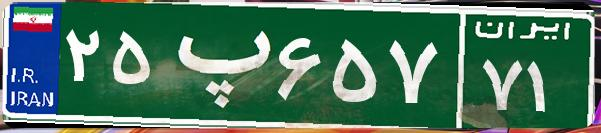1: (525, 38, 570, 115)
2: (57, 26, 110, 107)
5: (330, 28, 385, 110), (110, 28, 158, 105)
6: (273, 28, 330, 110)
7: (385, 28, 445, 110), (475, 38, 525, 113)
پ: (158, 15, 273, 115)
